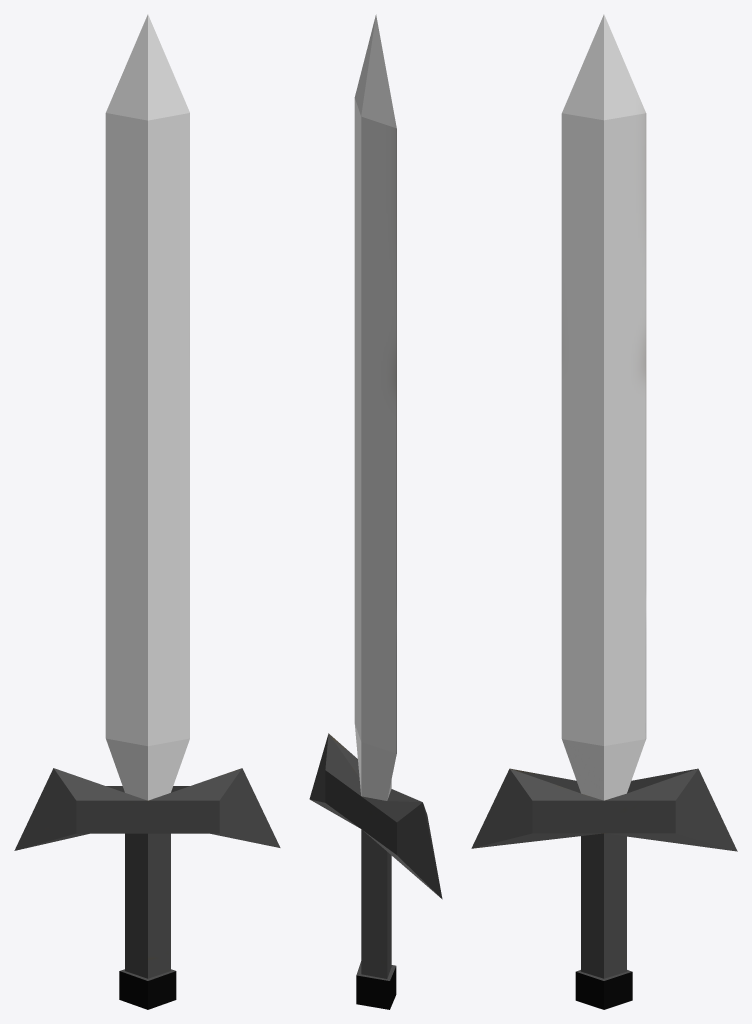
The model's file is iron_sword.glb.
3 renders of one model, left to right at view 1: azimuth 90°, elevation 25°; view 2: azimuth 210°, elevation 25°; view 3: azimuth 270°, elevation 25°, orthographic.
Visible parts, largest first — view 1: Cube.001; view 2: Cube.001; view 3: Cube.001.
Boxes of the visible parts, x1,y1,x2,y2 form: Cube.001: (14, 14, 280, 1009); Cube.001: (309, 14, 442, 1009); Cube.001: (471, 14, 737, 1009).
Bounding box in the file's own units: 0.8137 × 19.14 × 4.68.
1 material, 1 textured.
